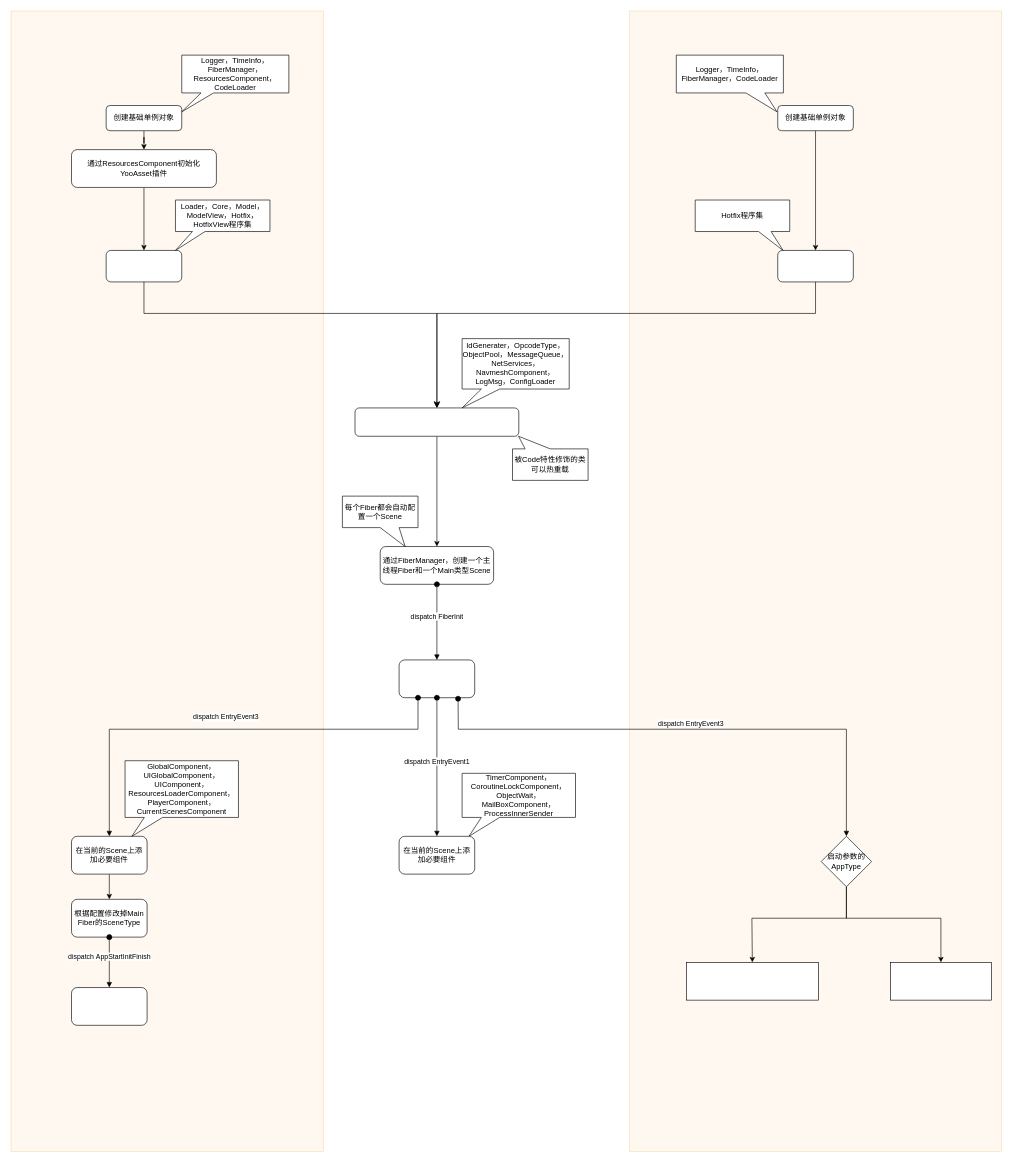
Some shapes in this 1012 by 1162 pixel diagram are drawn without their labels. Each missing label, with the centre of its shape:
"Entry入口，创建基础单例，加载配置文件。 通过CodeTypes单例，创建可以热重载的单例" belongs at (x=436, y=421).
"Server类型，根据StartProcessConfig和StartSceneConfig配置，创建对应的Fiber" belongs at (x=752, y=981).
"Watcher类型，在当前Scene（Main类型）上添加WatcherComponent组件" belongs at (x=940, y=981).
"显示登陆界面" belongs at (x=109, y=1006).
"派发EntryEvent1，EntryEvent2，EntryEvent3三个事件" belongs at (x=436, y=678).
"通过CodeLoader初始化AOT和热更代码" belongs at (x=144, y=266).
"通过CodeLoader加载逻辑相关的程序集" belongs at (x=815, y=266).
